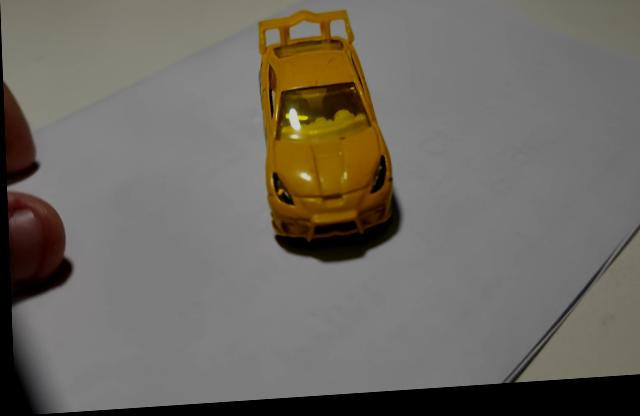07_RHLTURBO: (256, 15, 395, 257)
